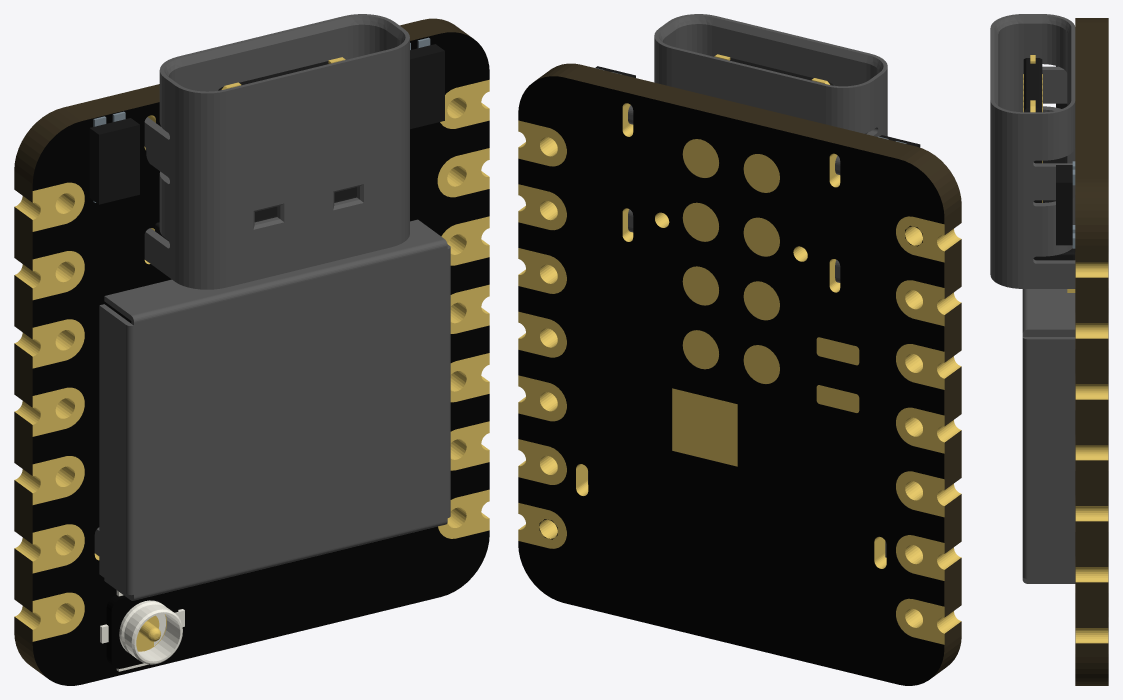
File: xiao.glb
The picture shows the model from 3 angles, left to right: view 1: azimuth 30°, elevation 25°; view 2: azimuth 150°, elevation 25°; view 3: azimuth 270°, elevation 25°; orthographic projection. The views are drawn at different scales.
Size of the model in its own units: 17.78 by 22.48 by 4.46.
